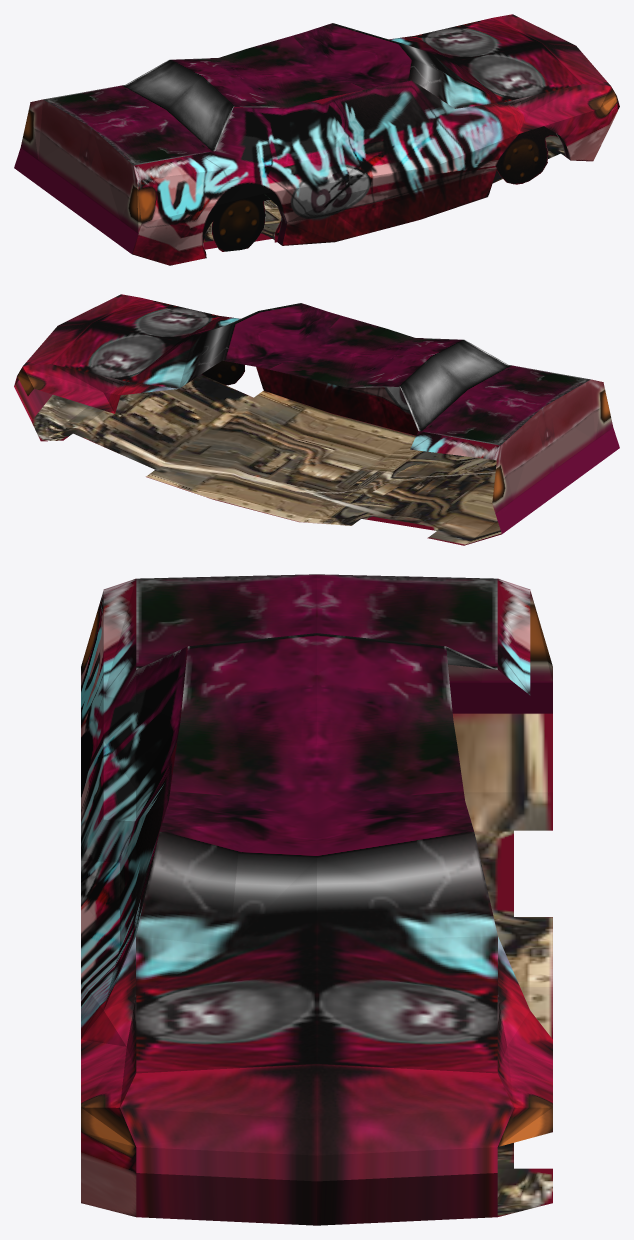
Rendered from car.FBX.
The picture shows the model from 3 angles, top to bottom: view 1: azimuth 30°, elevation 25°; view 2: azimuth 150°, elevation 25°; view 3: azimuth 270°, elevation 25°; orthographic projection. The views are drawn at different scales.
Parts seen in each view (by area): view 1: Car; view 2: Car; view 3: Car.
Part boxes in pixels (<box>): Car: <box>14,14,619,265</box>; Car: <box>14,294,619,545</box>; Car: <box>81,574,552,1225</box>.
Size of the model in its own units: 65.13 by 16.95 by 25.79.
Materials: 1 (1 with a texture image).
